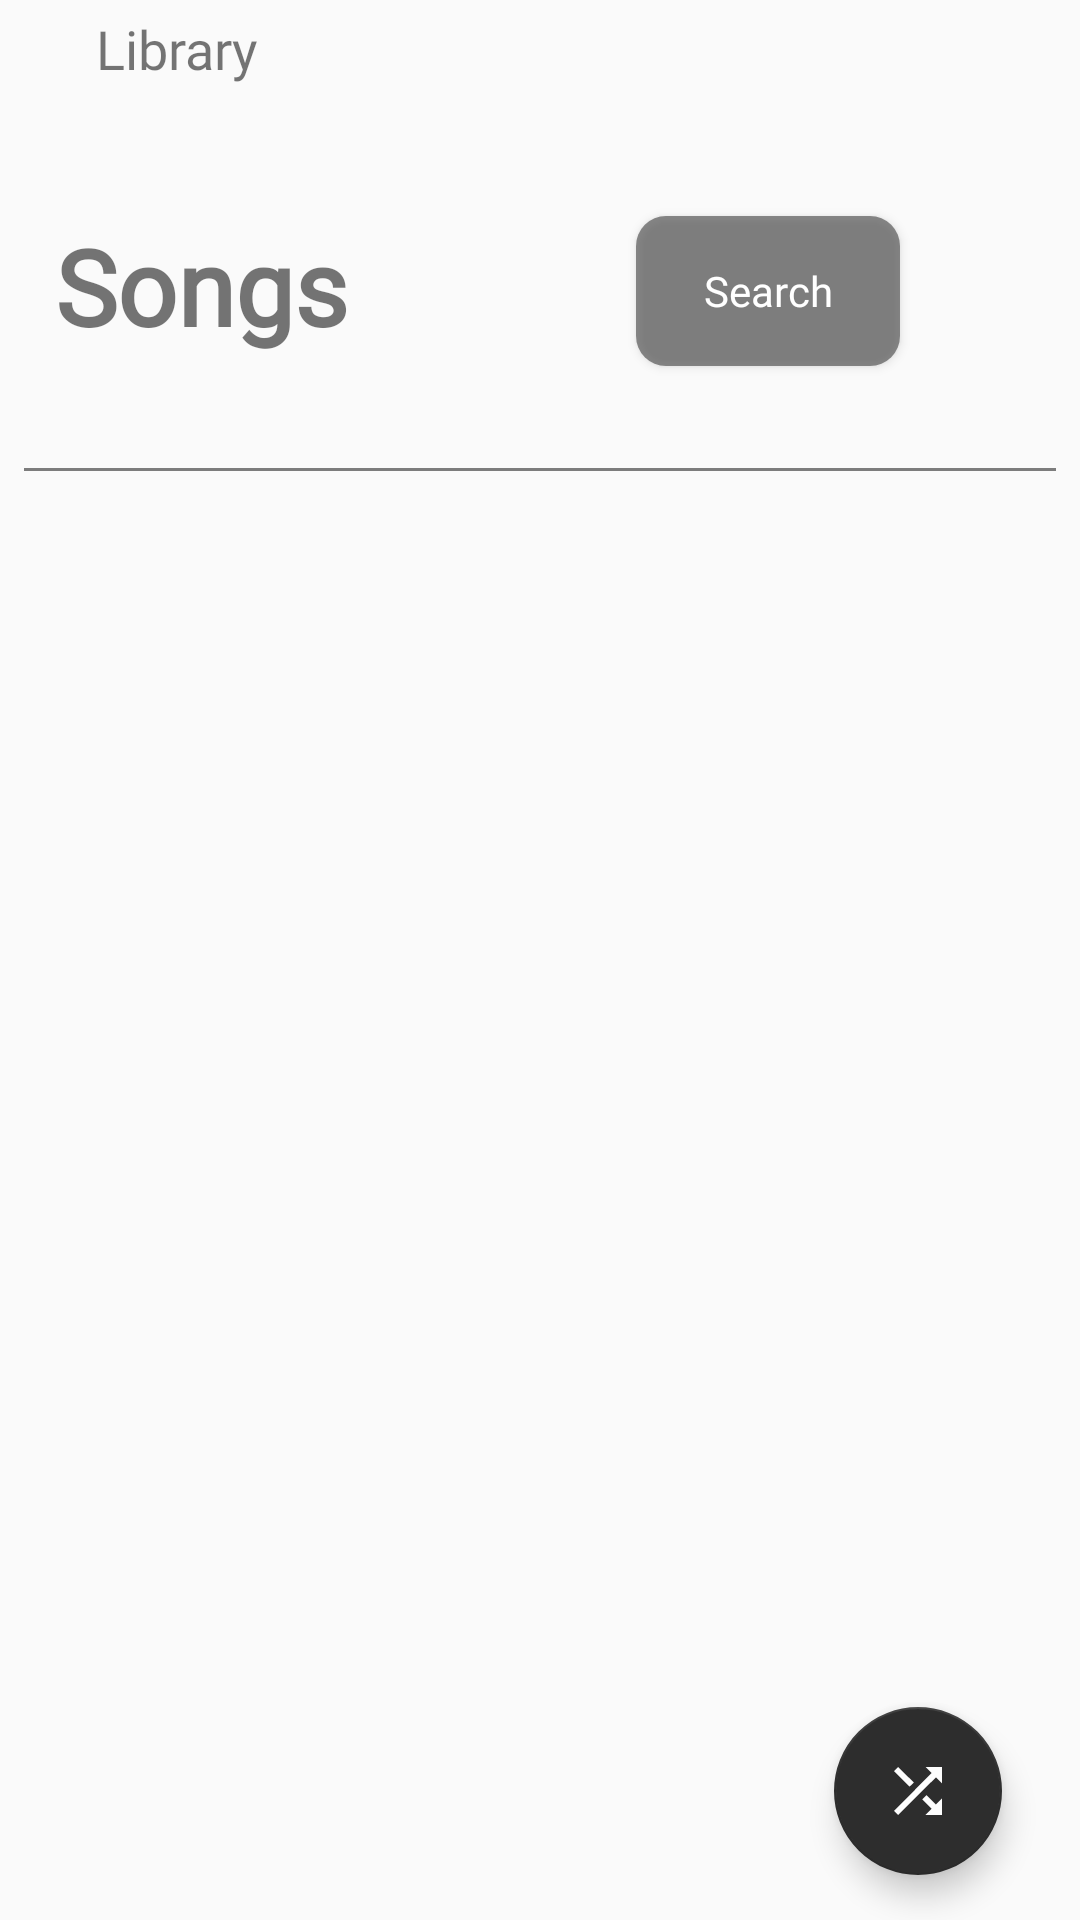

Named icons in this screenshot (1080×1920) and their bounding boxes, (x1, y1, x2, y2):
shuffle: (834, 1707, 1002, 1875)
